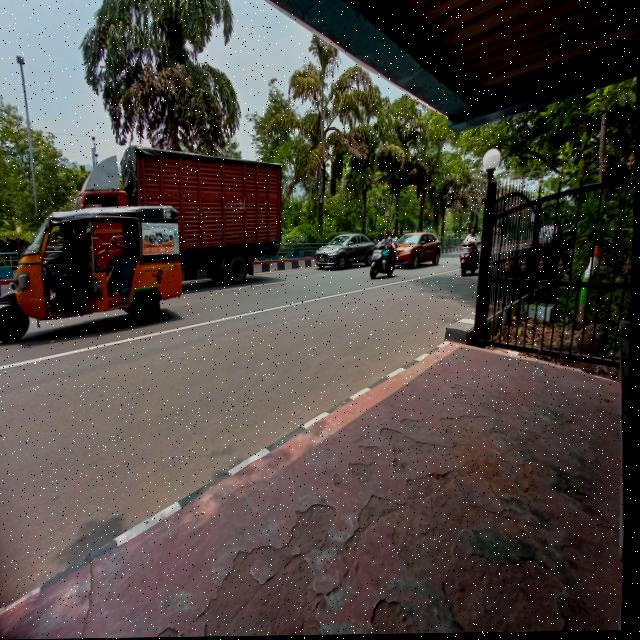bike: (373, 240, 405, 283), (456, 241, 481, 280)
car: (310, 231, 378, 280)
